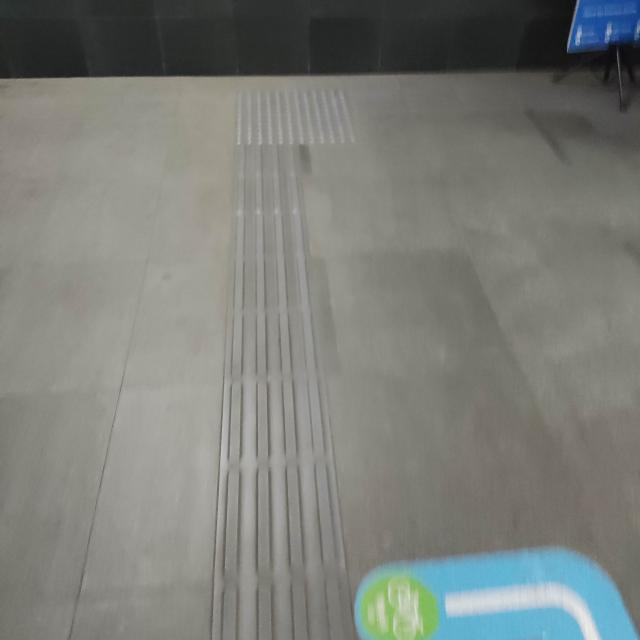lurus: (207, 157, 335, 640)
